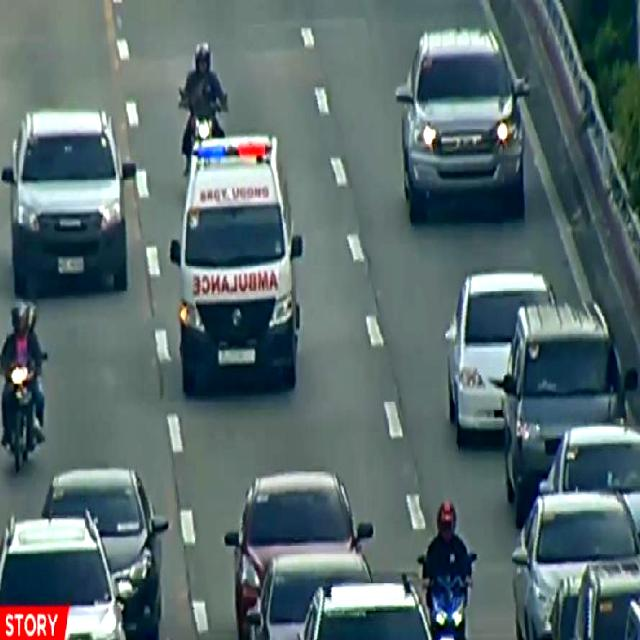emergency: (168, 134, 304, 399)
